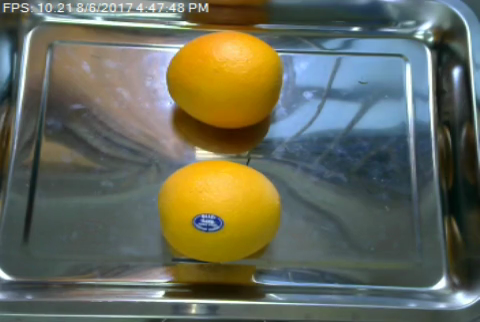Orange: (157, 160, 282, 262), (166, 29, 283, 128)
